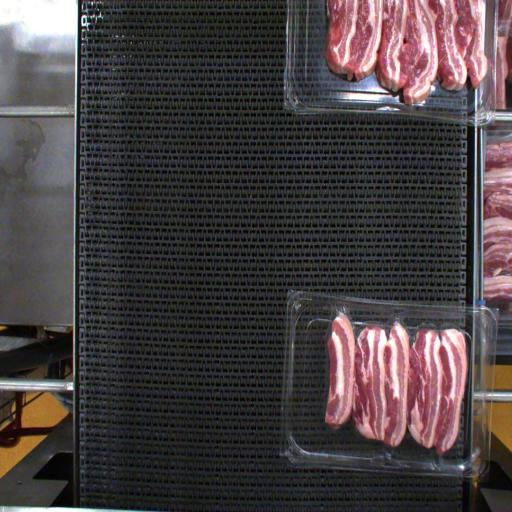unsealed: (324, 303, 472, 354)
